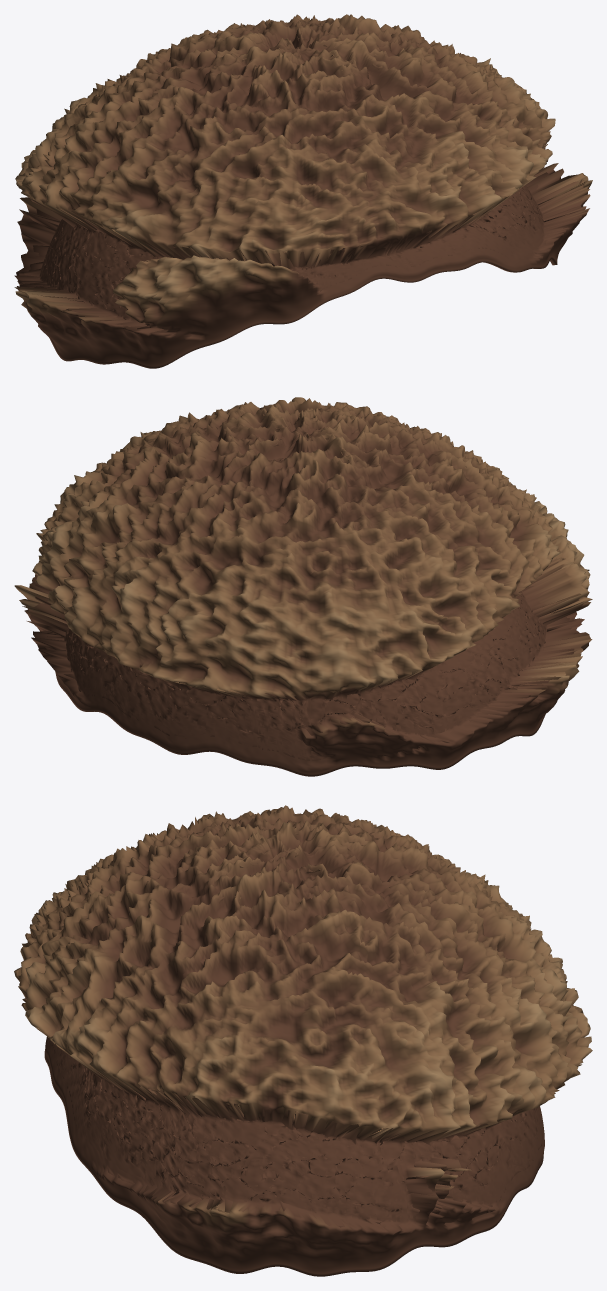
Rendered from Masculine-afro-headband260-hair-ombre.glb.
3 views of the same model, one above another, from view 1: azimuth 30°, elevation 25°; view 2: azimuth 150°, elevation 25°; view 3: azimuth 270°, elevation 25° (orthographic). The views are drawn at different scales.
Parts seen in each view (by area): view 1: 226 hair / Hair252 / dense natural coil groups.001; view 2: 226 hair / Hair252 / dense natural coil groups.001; view 3: 226 hair / Hair252 / dense natural coil groups.001.
Part boxes in pixels (x1=…): 226 hair / Hair252 / dense natural coil groups.001: x1=14, y1=14, x2=592, y2=368; 226 hair / Hair252 / dense natural coil groups.001: x1=14, y1=397, x2=592, y2=776; 226 hair / Hair252 / dense natural coil groups.001: x1=14, y1=805, x2=592, y2=1276.
Size of the model in its own units: 1.12 by 0.513 by 0.8804.
